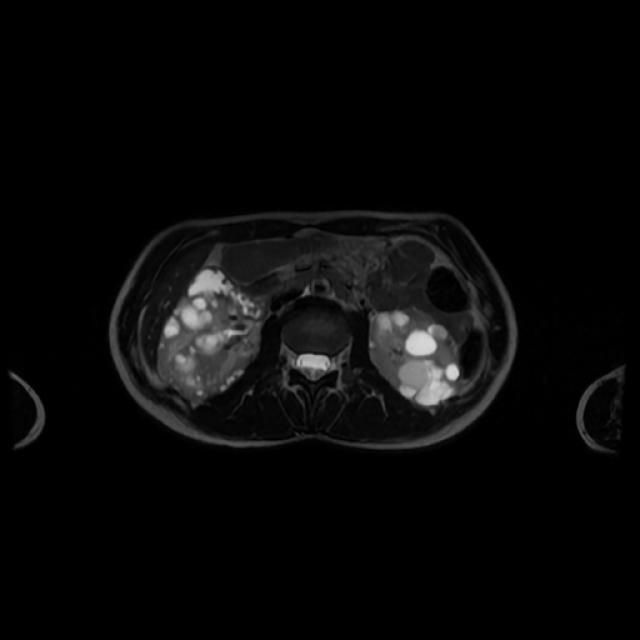sag: (157, 292, 260, 397)
sol: (373, 307, 461, 408)
